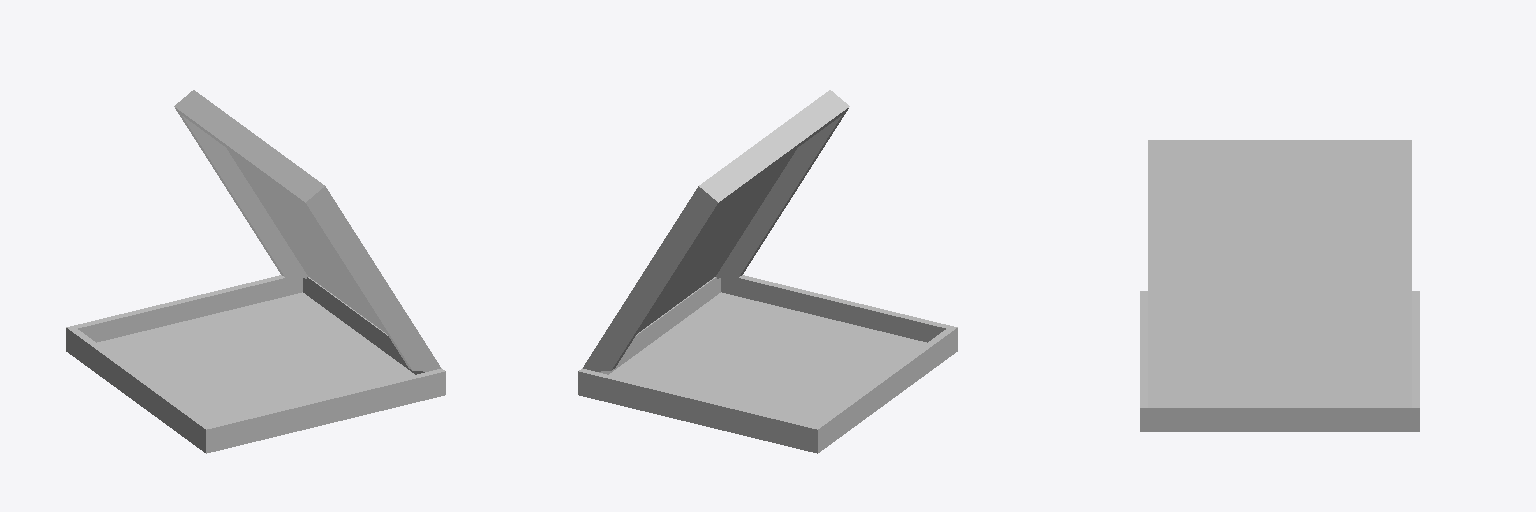
File: pizzaBox.obj
3 views of the same model, side by side, from view 1: azimuth 30°, elevation 25°; view 2: azimuth 150°, elevation 25°; view 3: azimuth 270°, elevation 25° (orthographic).
Parts seen in each view (by area): view 1: pizzaBox, lid; view 2: pizzaBox, lid; view 3: lid, pizzaBox.
Boxes of the visible parts, <box> form: pizzaBox: <box>66,275,445,453</box>; lid: <box>174,90,440,371</box>; pizzaBox: <box>578,275,957,453</box>; lid: <box>583,90,849,371</box>; lid: <box>1148,140,1411,407</box>; pizzaBox: <box>1140,291,1419,431</box>.
Size of the model in its own units: 0.9418 by 0.8816 by 0.9518.